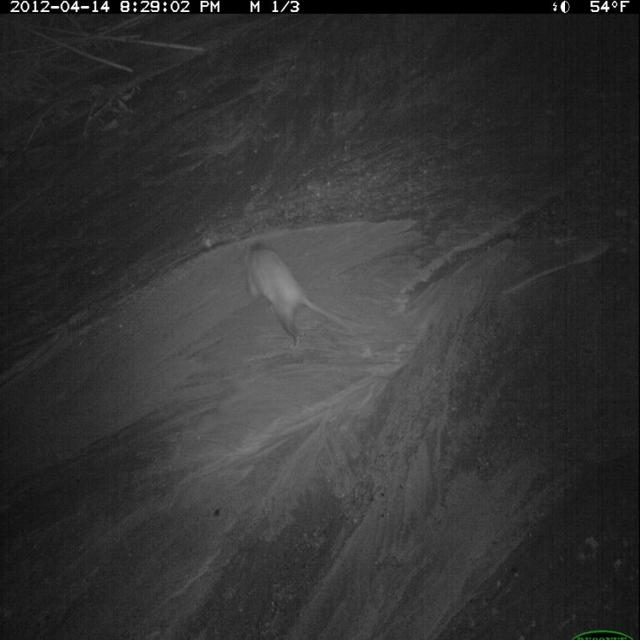opossum: (241, 233, 357, 358)
